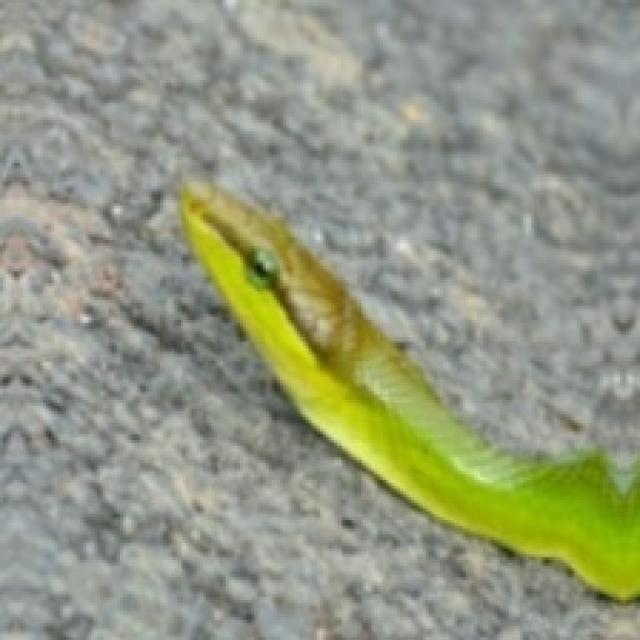red-tailed green ratsnake: (180, 180, 637, 597)
